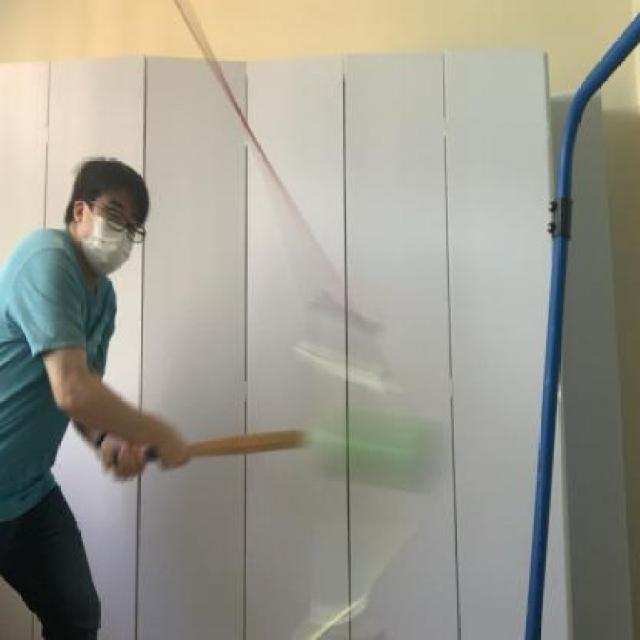baseball: (298, 410, 472, 501)
